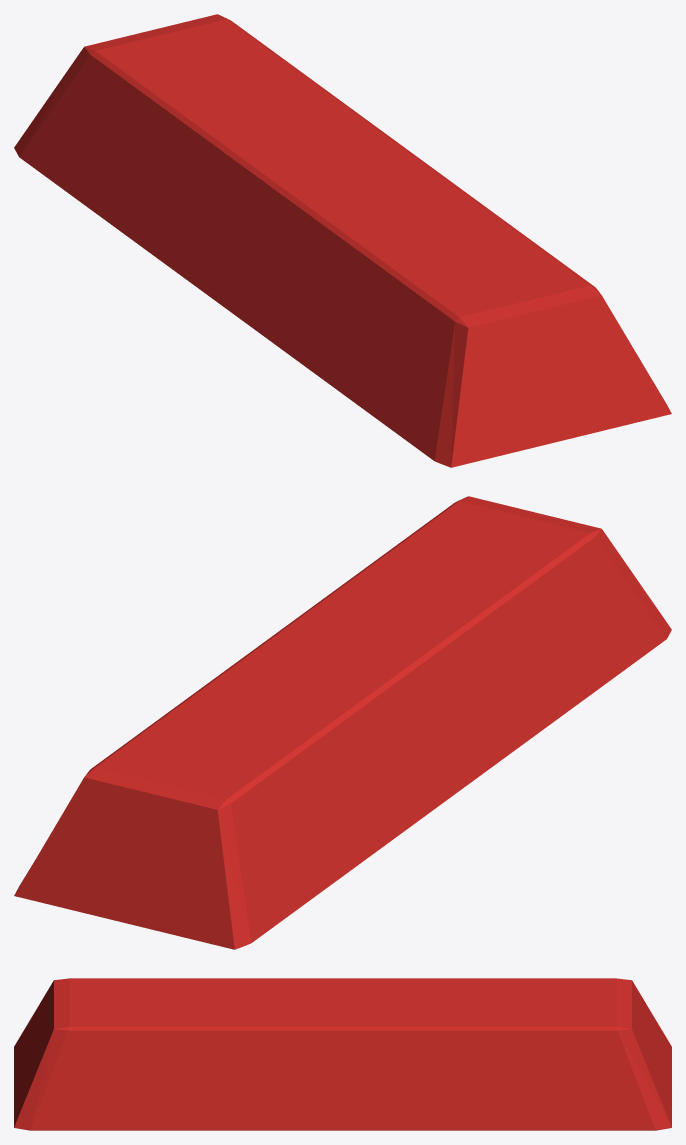
The model's file is MONSETHYSTIngot.fbx.
3 renders of one model, top to bottom at view 1: azimuth 30°, elevation 25°; view 2: azimuth 150°, elevation 25°; view 3: azimuth 270°, elevation 25°, orthographic. The views are drawn at different scales.
Visible parts, largest first — view 1: Ingot; view 2: Ingot; view 3: Ingot.
Part boxes in pixels (x1,y1,x2,y2): Ingot: (14,14,671,467); Ingot: (14,496,671,949); Ingot: (14,978,671,1130).
Bounding box in the file's own units: 16.82 × 8 × 54.83.
